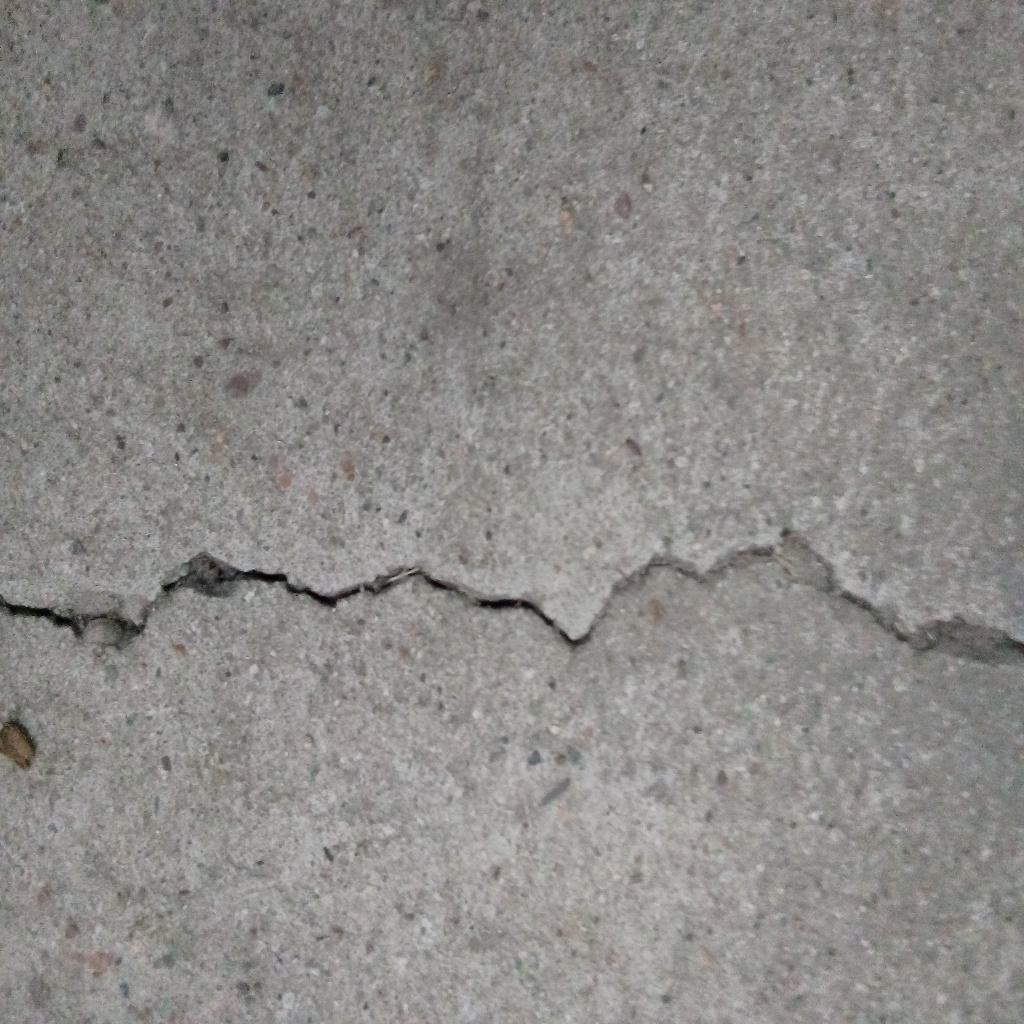Crack: (1, 521, 1024, 670)
Spalling: (1, 719, 38, 772)
